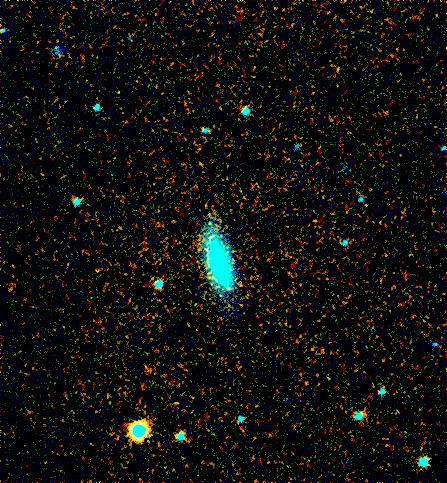star: (289, 370, 319, 400)
